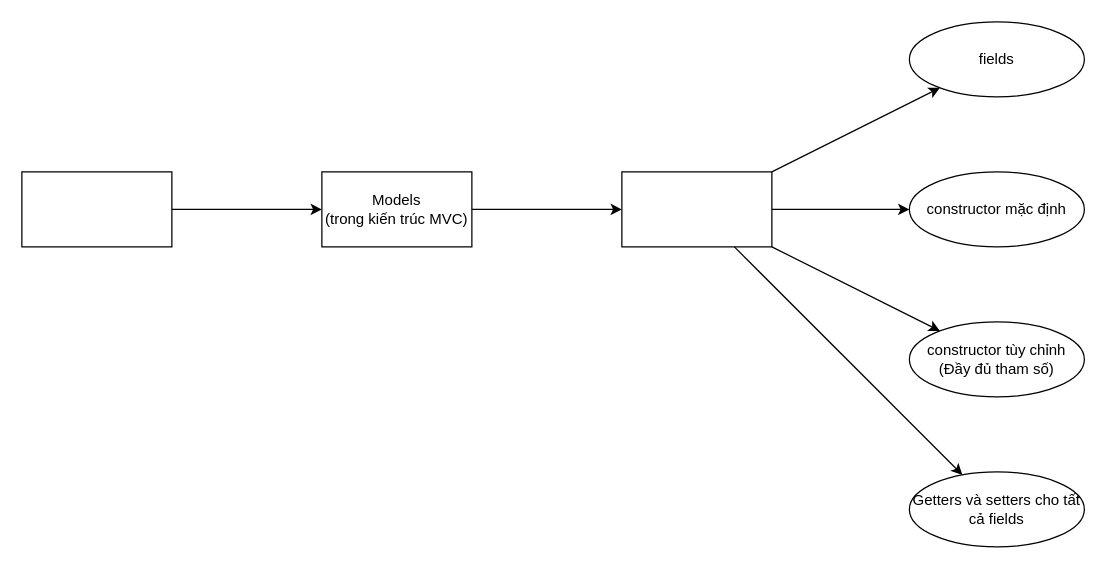
Some shapes in this 1106 by 569 pixel diagram are drawn without their labels. Here are the shapes that lost their labels. From the top down, the box of each, then its label:
(21, 171, 172, 247): Lớp mô hình dữ liệu
(621, 171, 772, 247): Các lớp POJO (Plain Old Java Objects)
